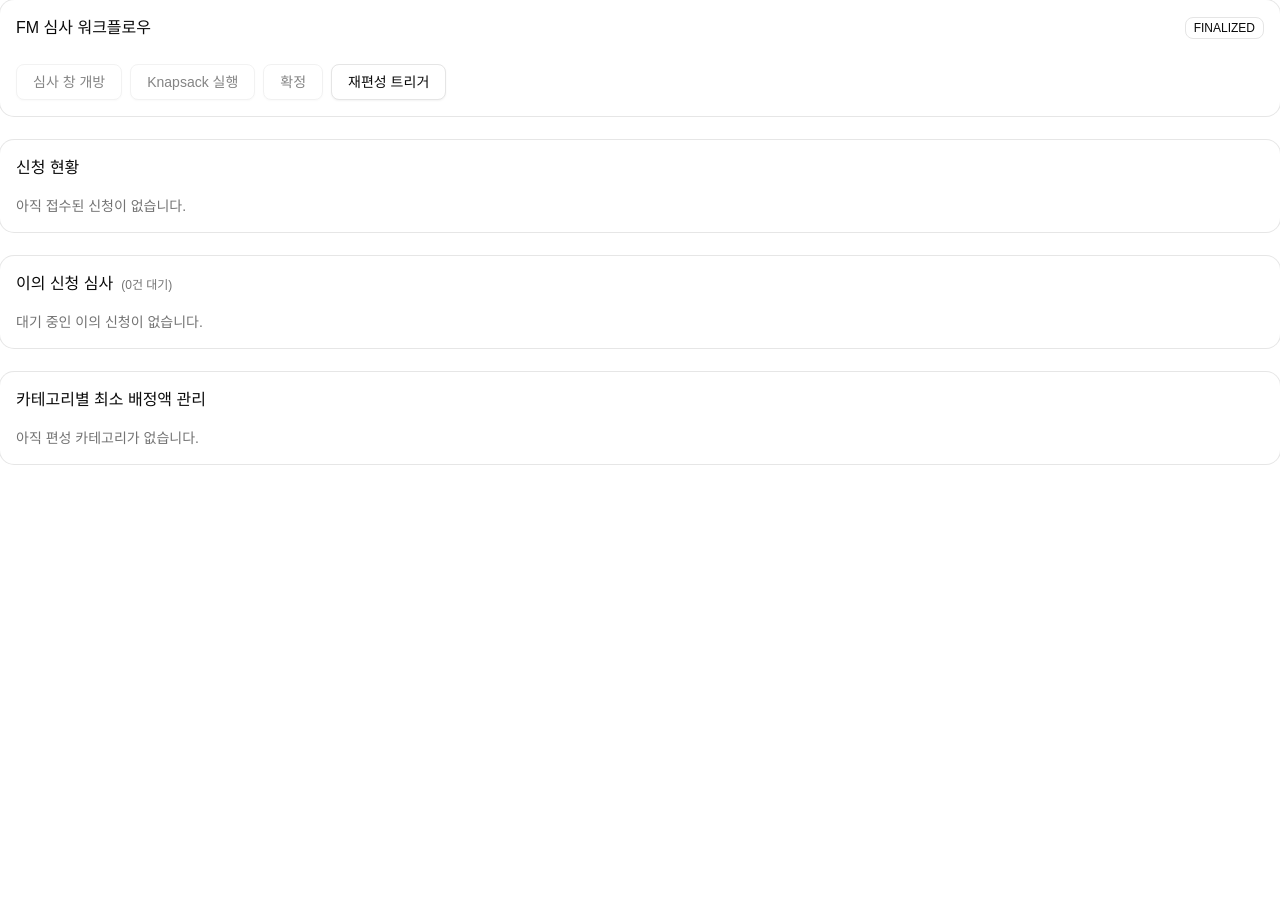
FinanceManagerReview — 재편성 Dialog › 재편성 버튼 클릭 시 Dialog 가 열리고, reason 이 비면 실행 버튼이 비활성이다
The image size is (1280, 900).
Click the button with test id "btn-re-plan" at [389, 82], box [331,64,446,100]
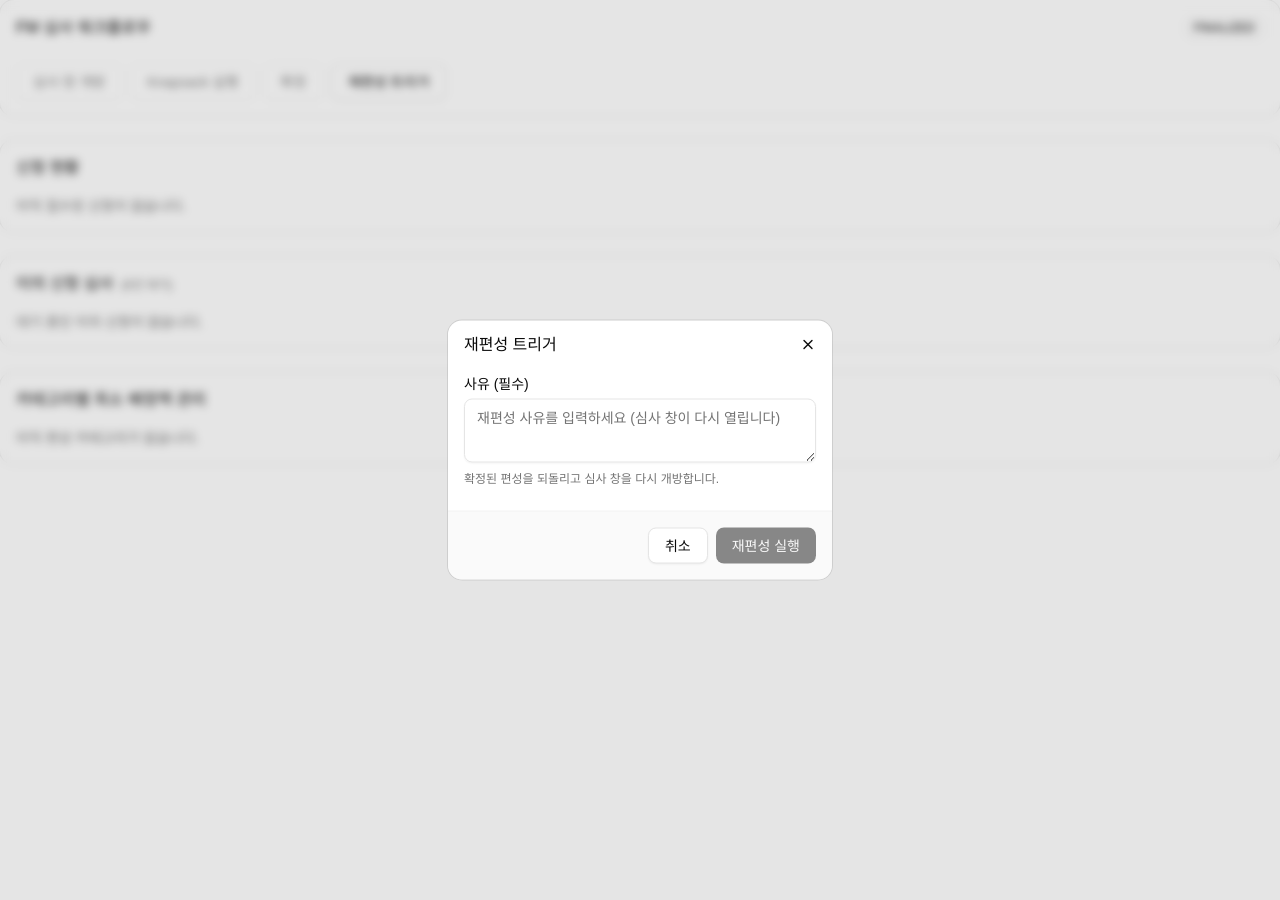
expect the button with test id "re-plan-submit" is disabled: met, box [716,528,816,564]
reason 입력 → 활성화
Type "월드컵 특수 반영" into the text box labelled "사유 (필수)" at [640, 430], box [464,398,816,462]
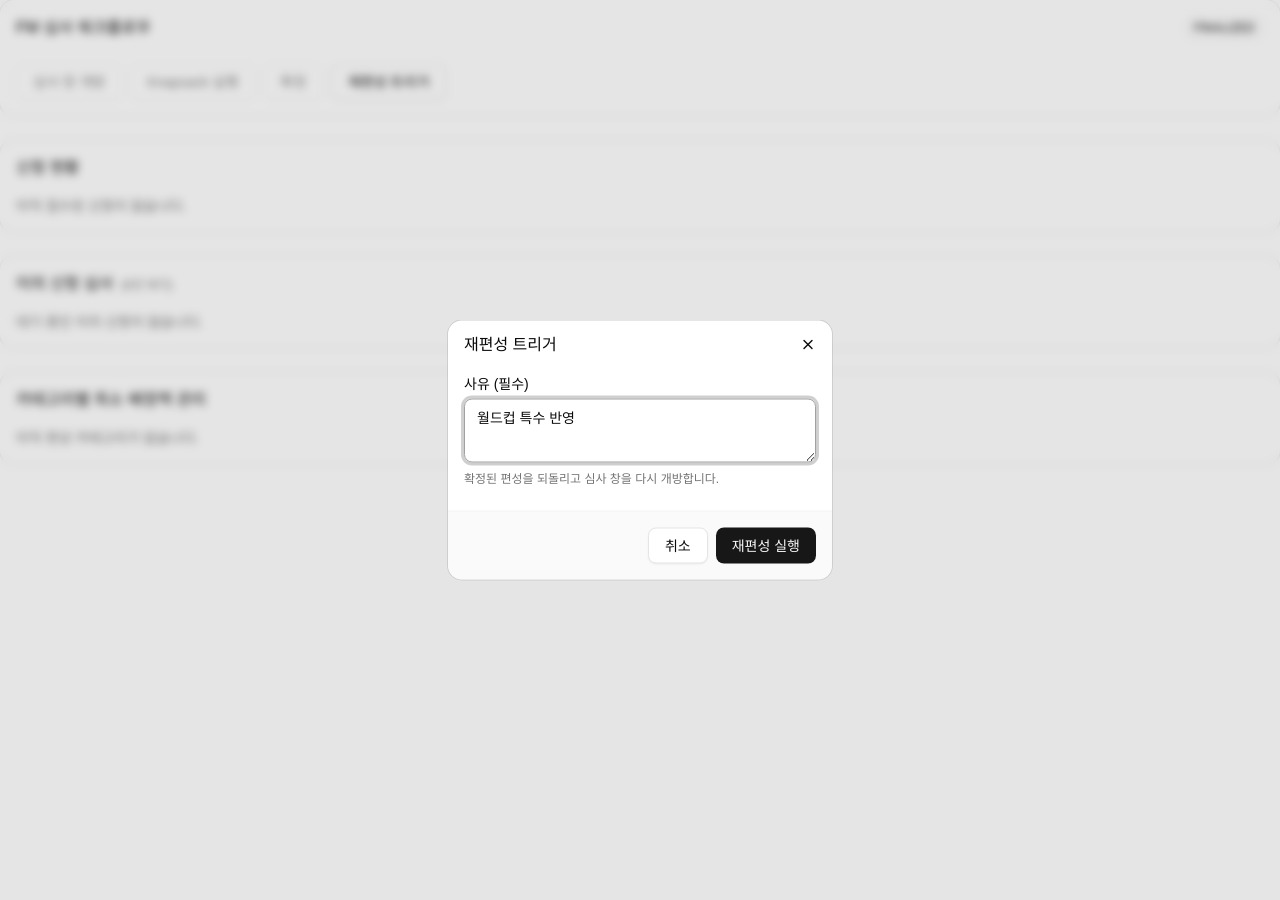
expect the button with test id "re-plan-submit" is enabled: met, box [716,528,816,564]
